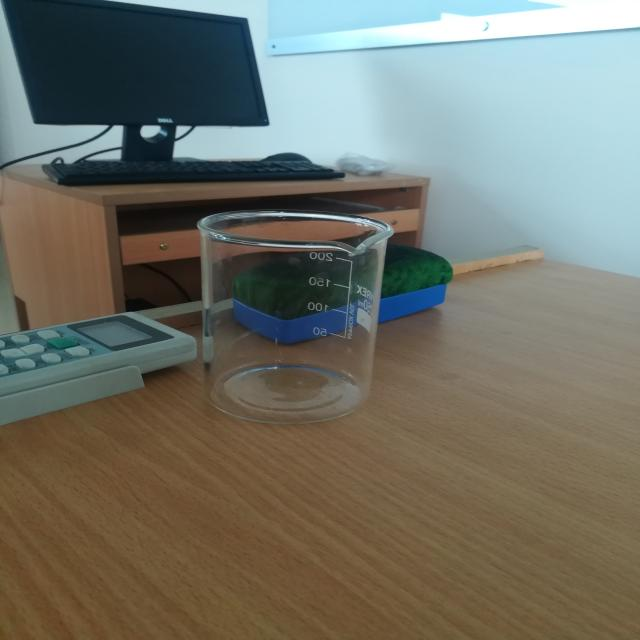Beaker: (138, 175, 444, 446)
